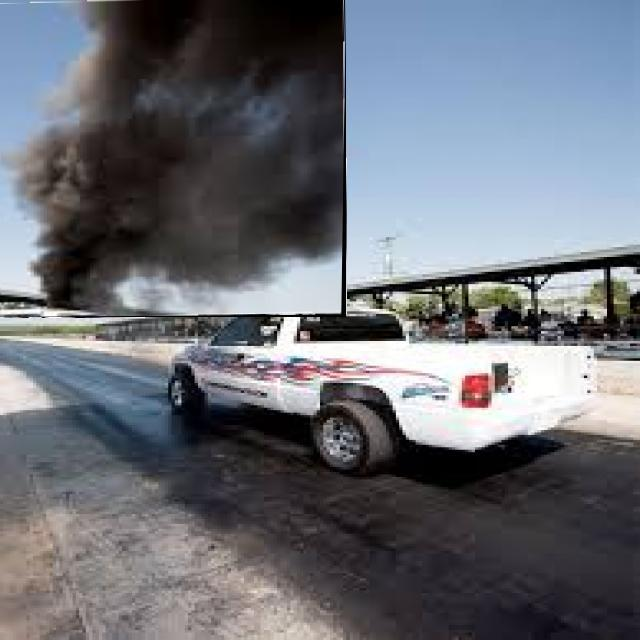smoke: (6, 6, 336, 307)
